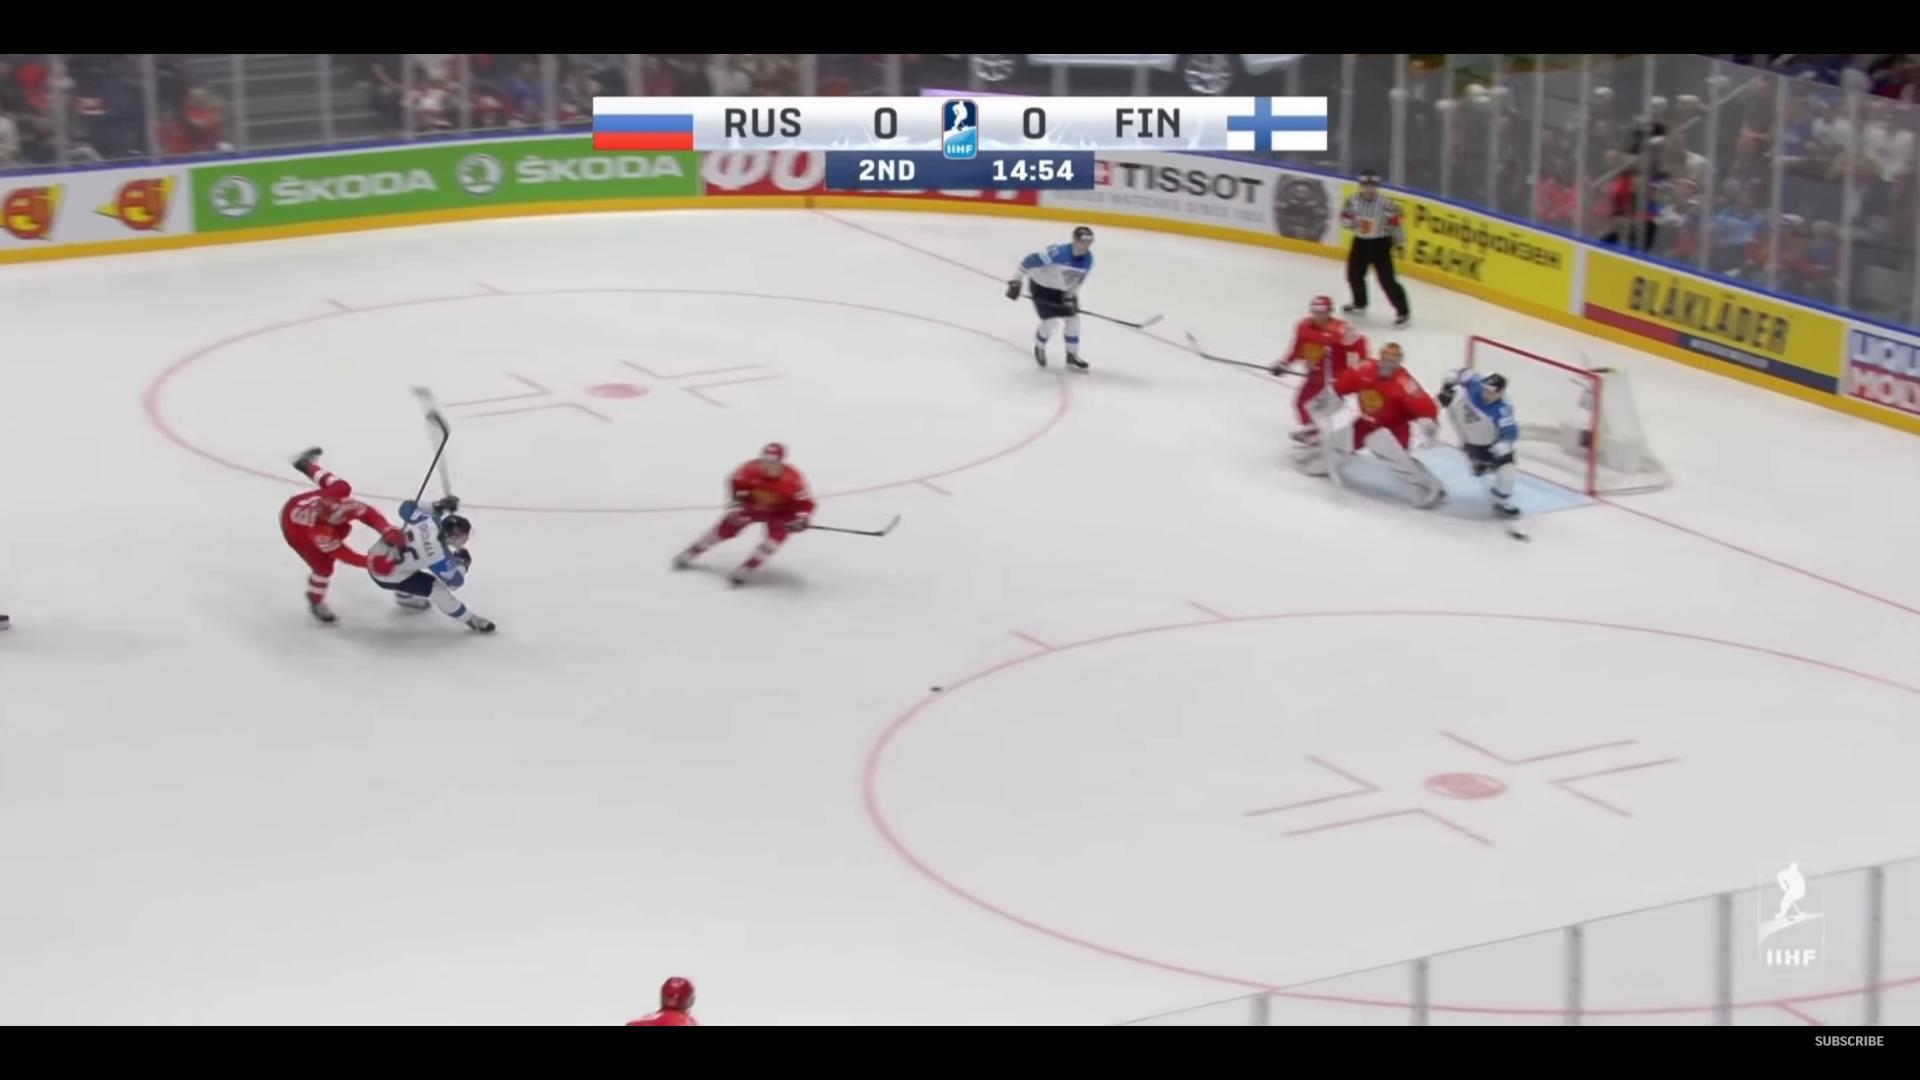puck: (928, 685, 944, 692)
